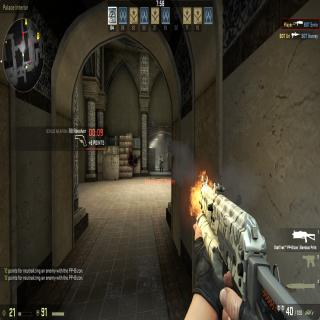CT-Body: (159, 155, 163, 173)
CT-Head: (160, 155, 162, 159)
